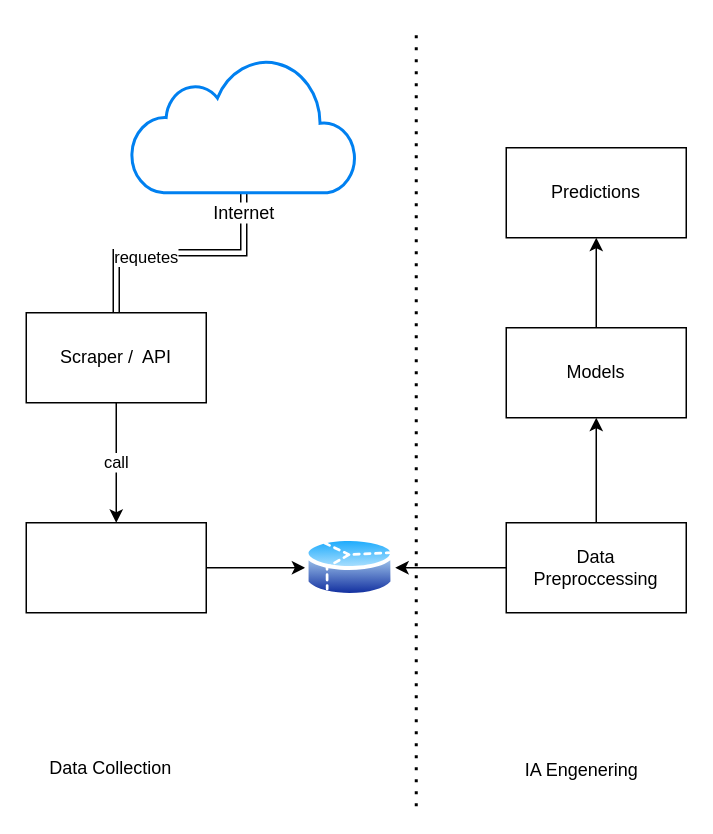
This 713x834 diagram has some shape labels left out. The shapes that lost their labels are listed below. From the top down, each one's centre as x and y in pixels, then its label:
At [115,567]: "DatasetManager - tremplate valide - storage".
At [349,567]: "storage".
